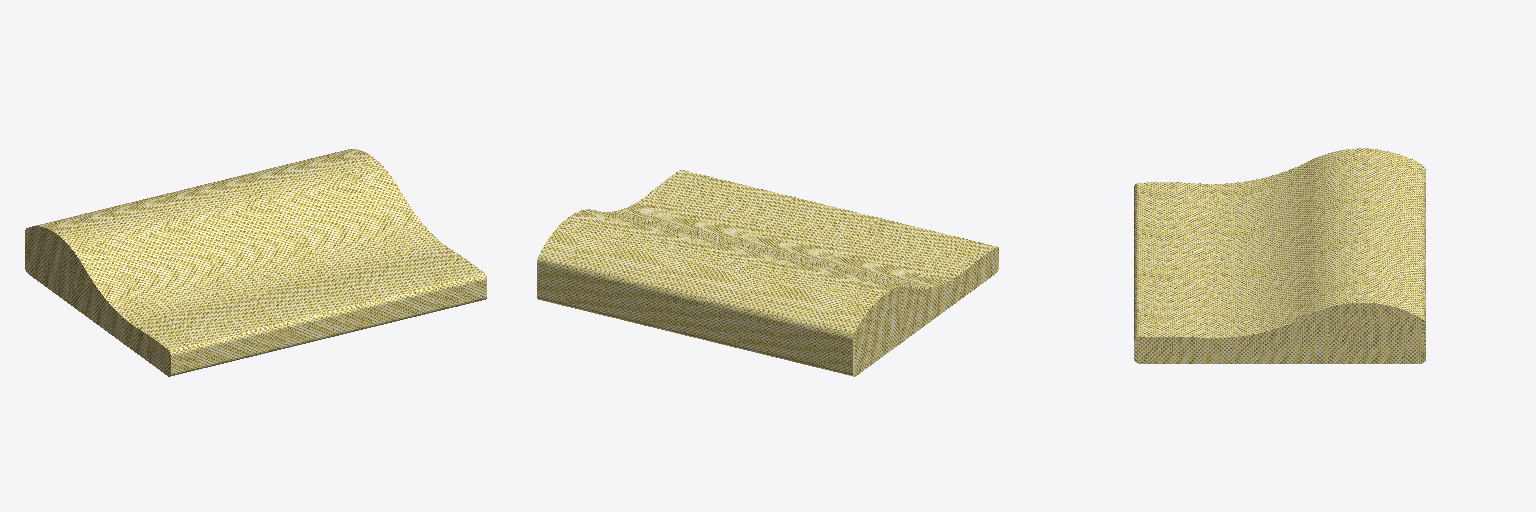
The picture shows the model from 3 angles: view 1: azimuth 30°, elevation 25°; view 2: azimuth 150°, elevation 25°; view 3: azimuth 270°, elevation 25°; orthographic projection.
Parts seen in each view (by area): view 1: yellow; view 2: yellow; view 3: yellow.
Boxes of the visible parts, x1=… form: yellow: x1=25, y1=149, x2=486, y2=376; yellow: x1=537, y1=170, x2=998, y2=376; yellow: x1=1134, y1=148, x2=1425, y2=363.
Bounding box in the file's own units: 5.69 × 1.05 × 4.55.
1 materials, 1 textured.